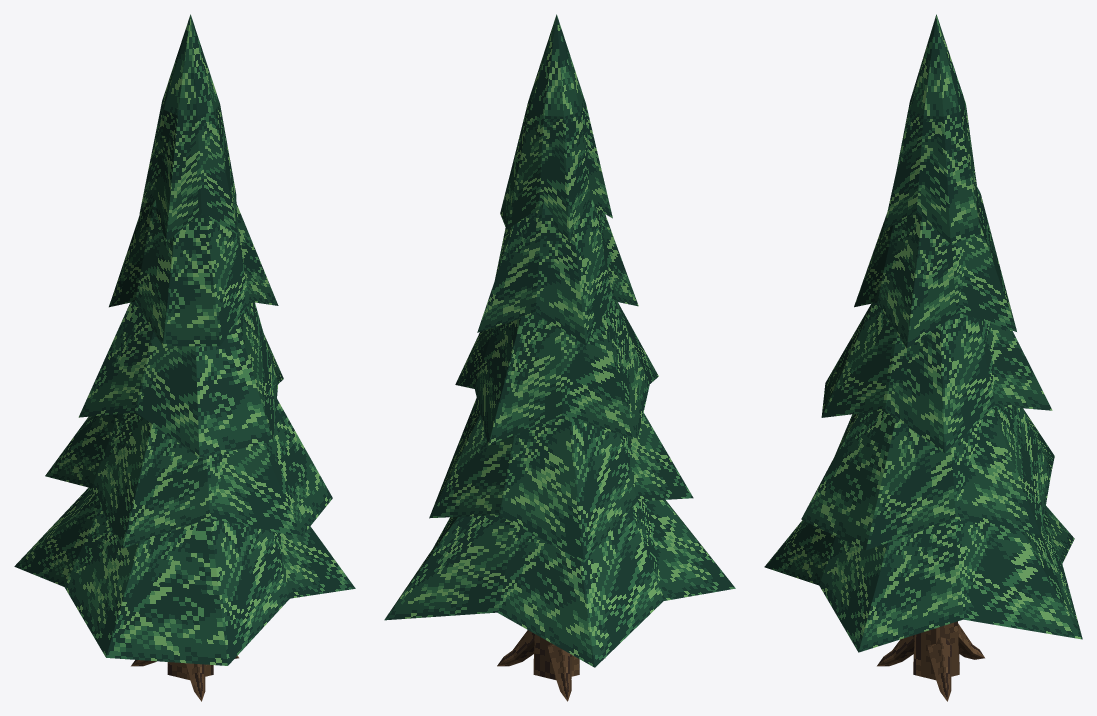
Rendered from tree_pine.glb.
3 renders of one model, left to right at view 1: azimuth 30°, elevation 25°; view 2: azimuth 150°, elevation 25°; view 3: azimuth 270°, elevation 25°, orthographic.
Parts seen in each view (by area): view 1: tree_pine; view 2: tree_pine; view 3: tree_pine.
Part boxes in pixels (x1=…): tree_pine: x1=14, y1=14, x2=355, y2=701; tree_pine: x1=384, y1=14, x2=735, y2=701; tree_pine: x1=764, y1=14, x2=1082, y2=701.
Bounding box in the file's own units: 1.55 × 3.8 × 1.66.
2 materials, 2 textured.
